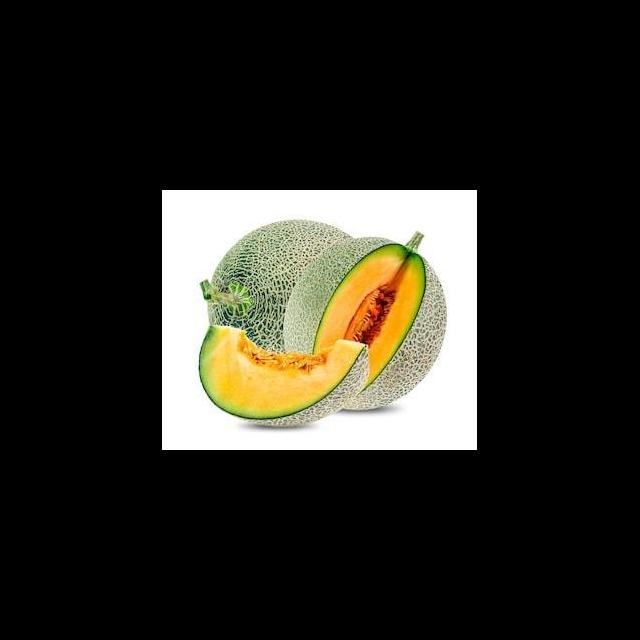Hami Melon: (284, 231, 448, 413), (196, 325, 370, 428)
